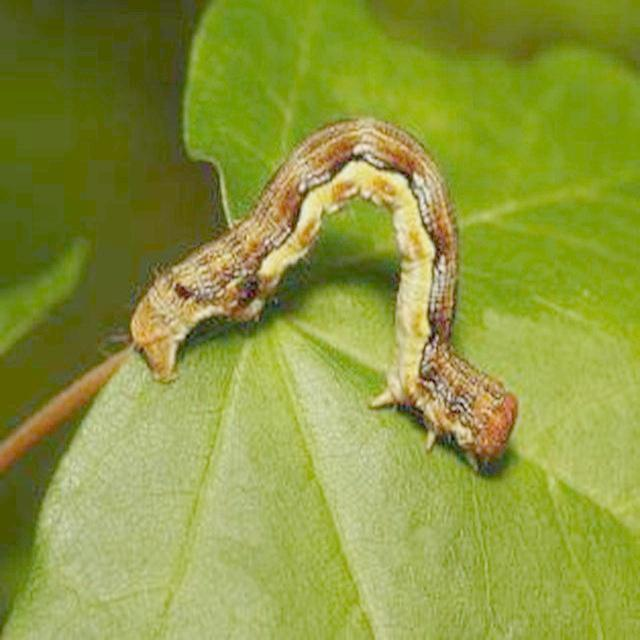gusano_cogollero: (130, 120, 515, 467)
